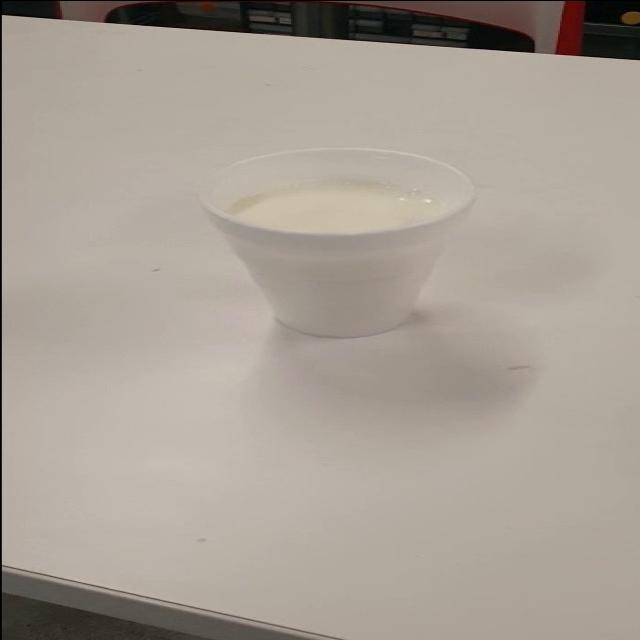Milk: (177, 122, 525, 368)
